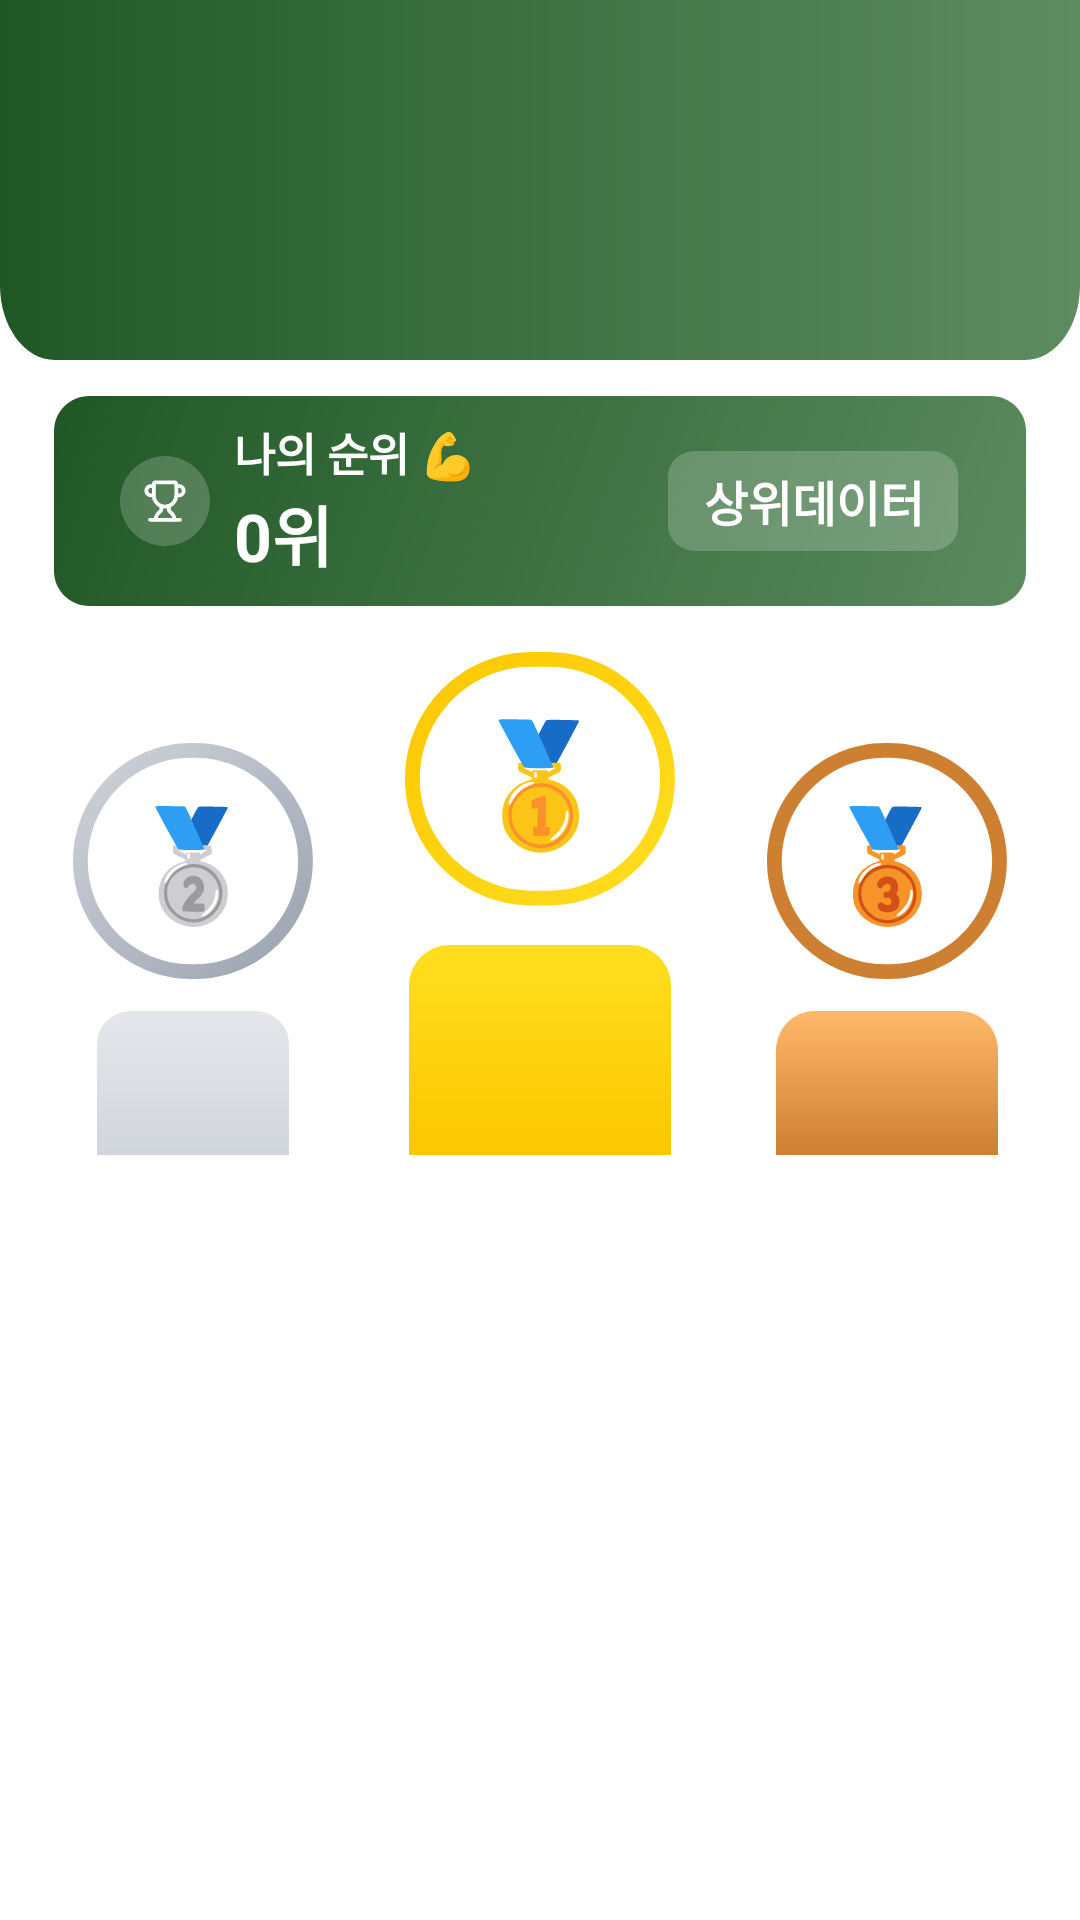

Named icons in this screenshot (1080x1920) and their centers, point (x, y):
ranking bronze circle: point (887, 861)
ranking gold circle: point (540, 779)
ranking silver circle: point (193, 861)
ranking trophyicon: point (165, 501)
